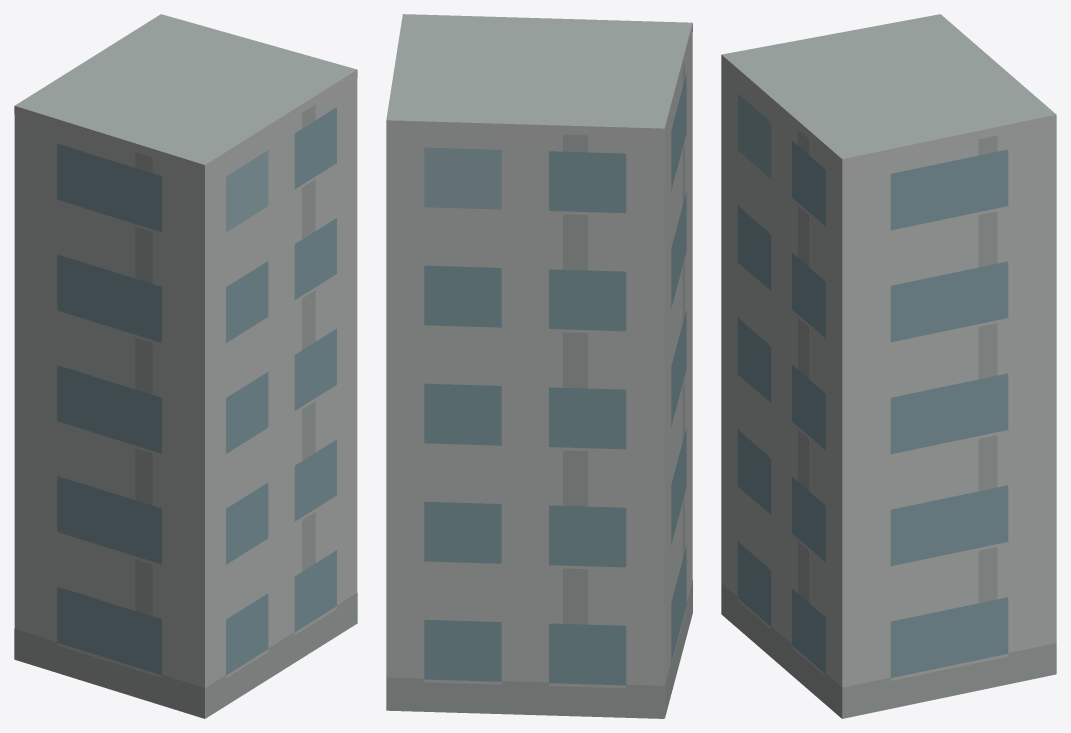
Rendered from survey-upis-32902490.glb.
3 renders of one model, left to right at view 1: azimuth 30°, elevation 25°; view 2: azimuth 150°, elevation 25°; view 3: azimuth 270°, elevation 25°, orthographic. The views are drawn at different scales.
Visible parts, largest first — view 1: survey-upis-32902490.tmp; view 2: survey-upis-32902490.tmp; view 3: survey-upis-32902490.tmp.
Boxes of the visible parts, x1,y1,x2,y2 form: survey-upis-32902490.tmp: [14, 14, 357, 718]; survey-upis-32902490.tmp: [386, 14, 692, 718]; survey-upis-32902490.tmp: [721, 14, 1056, 718].
Size of the model in its own units: 8.8 by 15.8 by 8.58.
